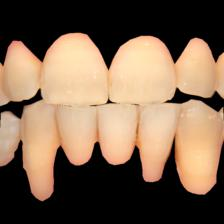cavity: (38, 60, 46, 89), (56, 124, 65, 147), (136, 120, 142, 148), (95, 128, 102, 142)
tooth: (43, 29, 109, 106), (175, 99, 224, 196), (114, 28, 176, 104), (24, 103, 56, 200), (137, 104, 174, 182), (3, 37, 42, 102), (178, 33, 215, 98), (59, 104, 97, 167), (101, 104, 135, 166), (2, 111, 16, 165)
